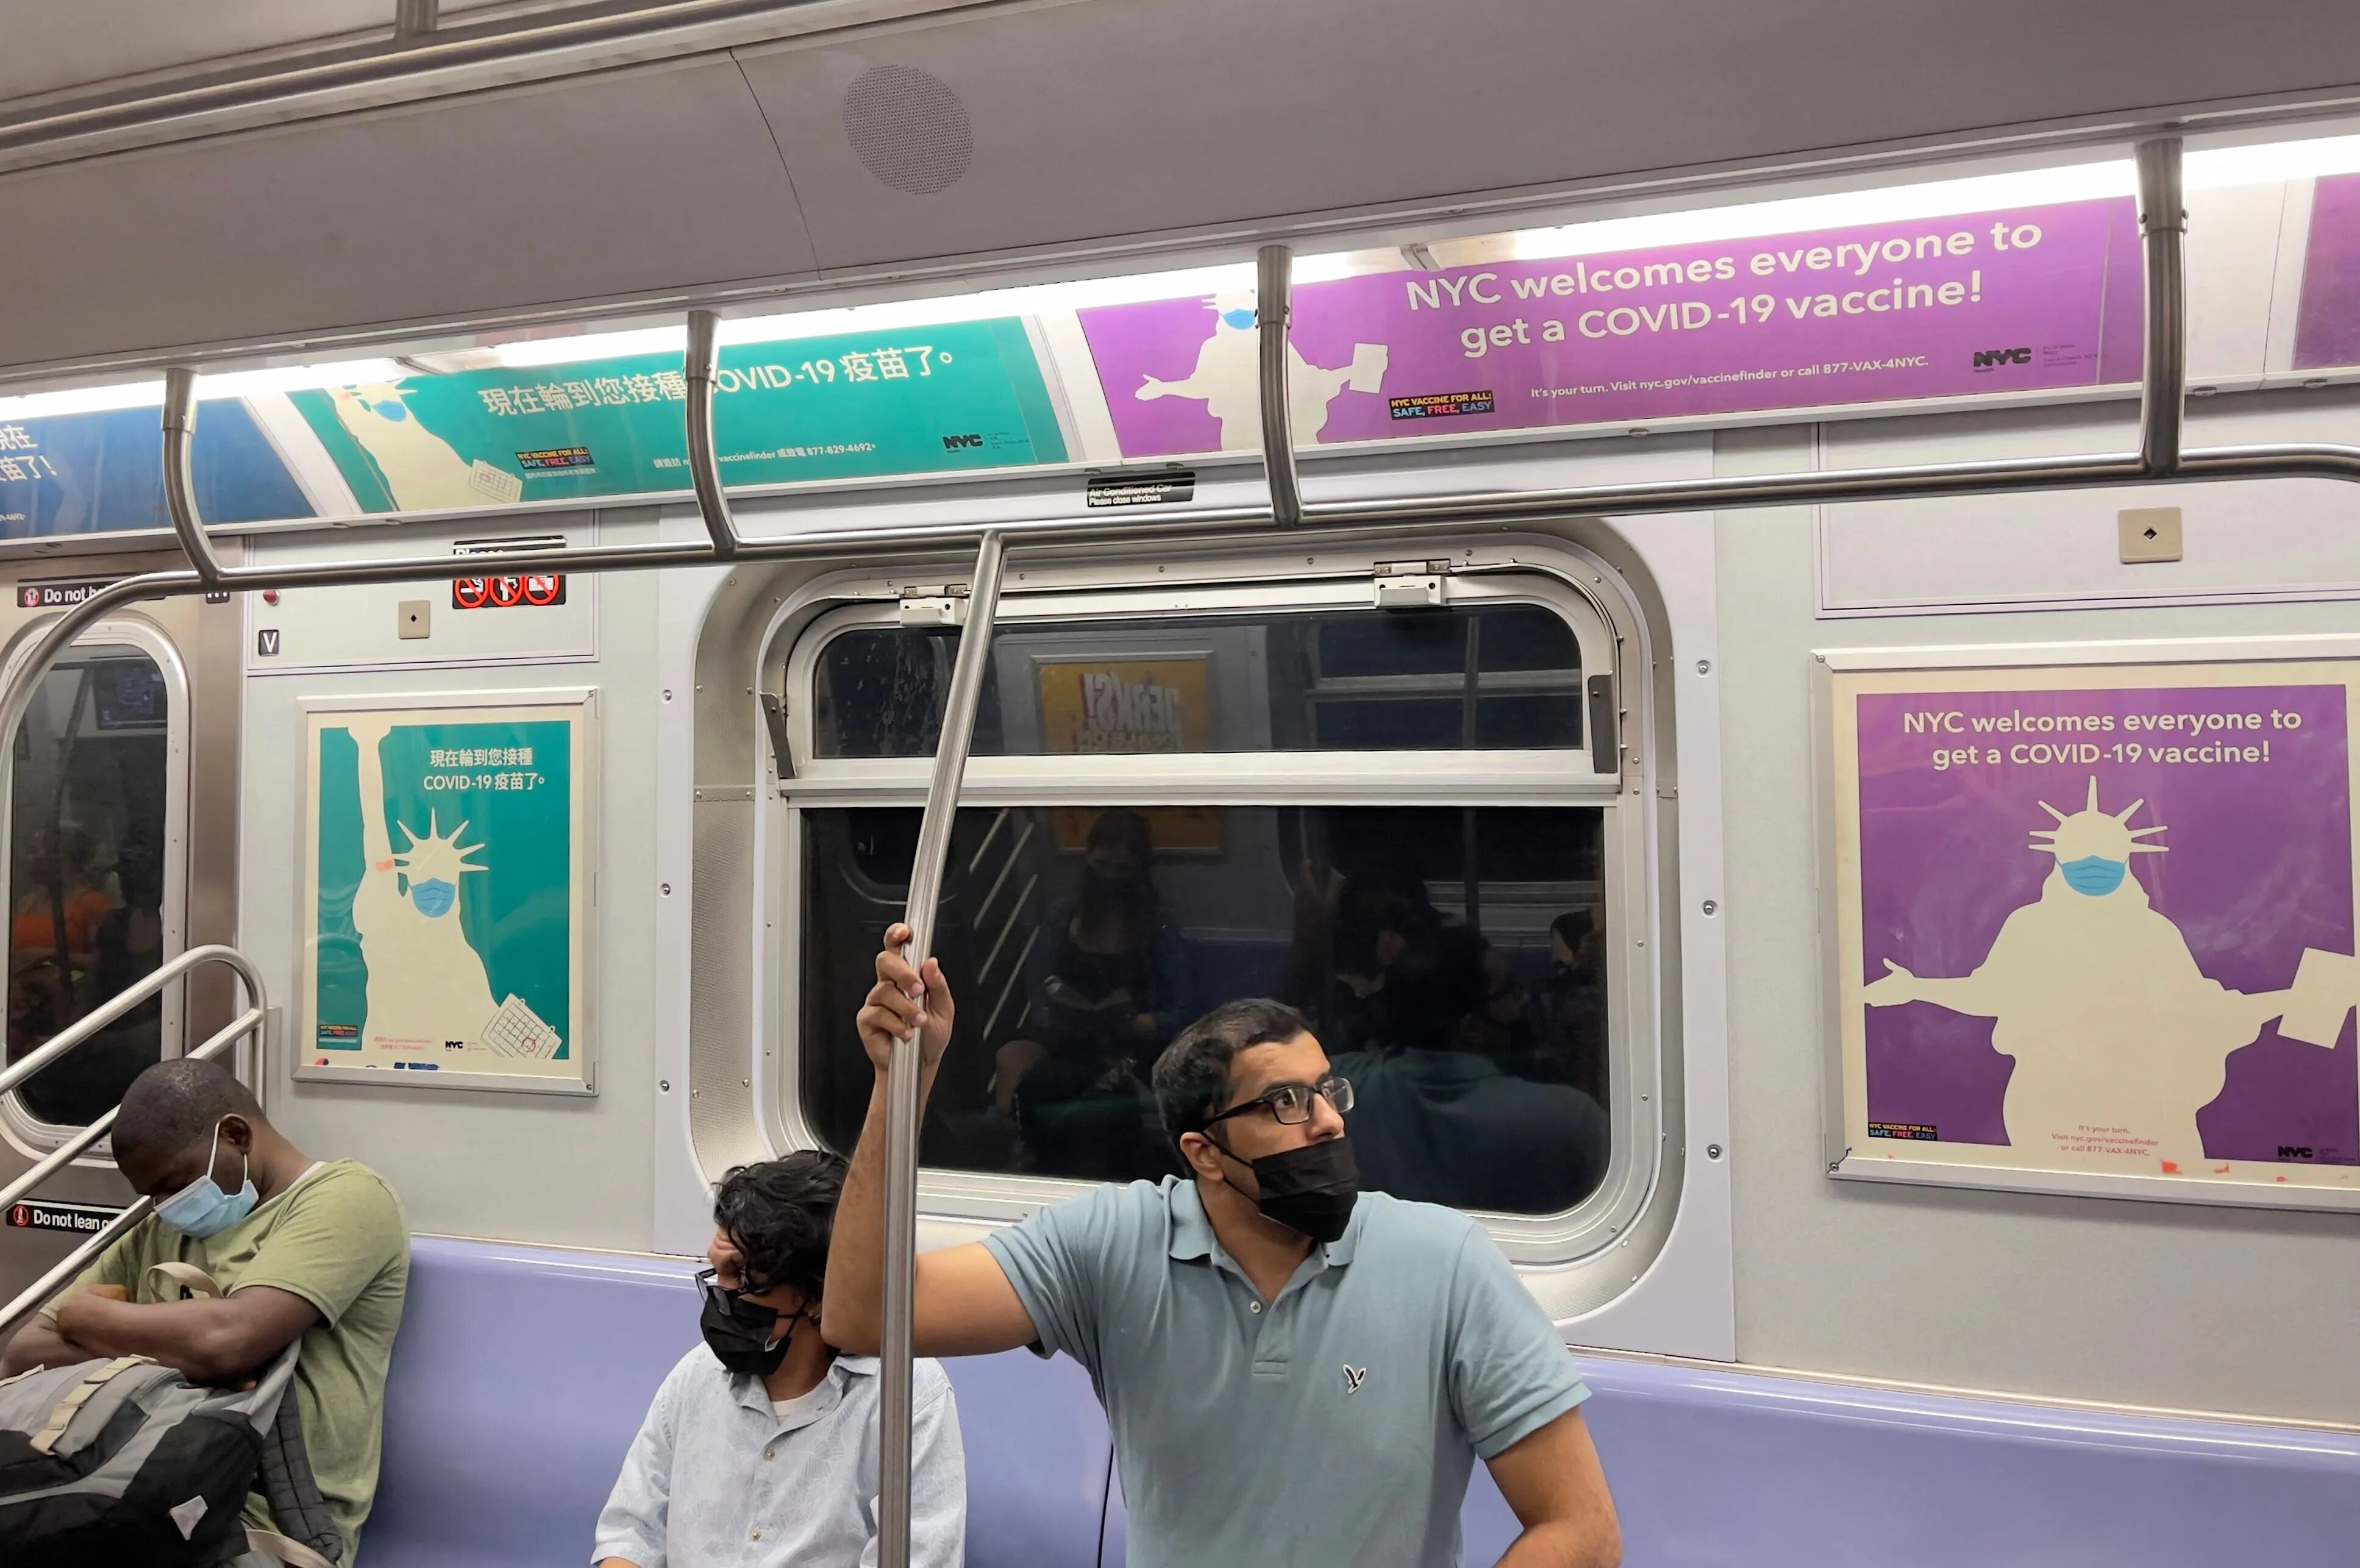with_incorrect_mask: (1217, 1055, 1364, 1252)
with_mask: (674, 1224, 816, 1377), (106, 1122, 269, 1235)
